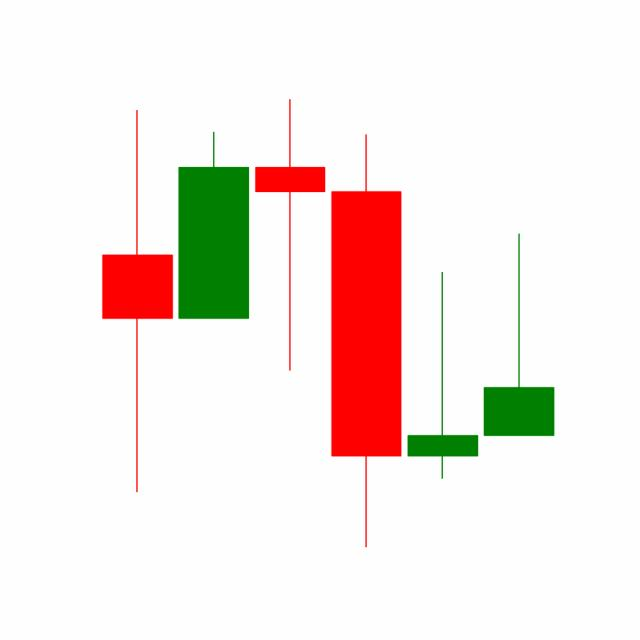Gravestone Doji: (403, 268, 481, 481)
